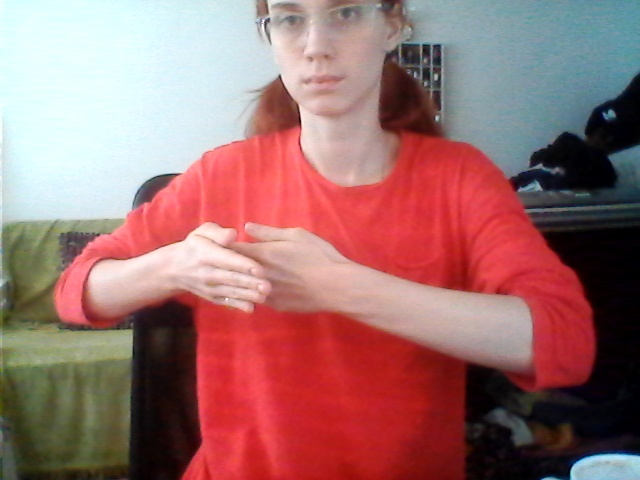dvere: (170, 218, 351, 322)
